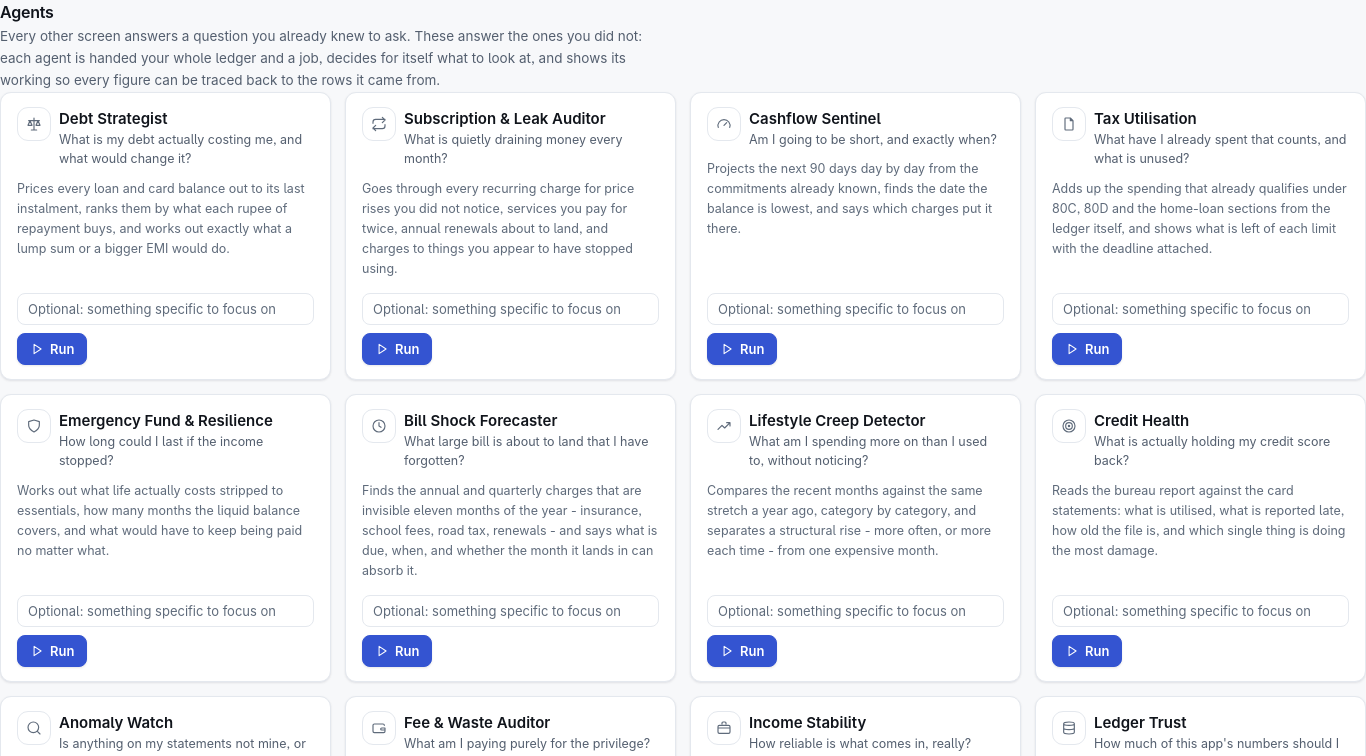
Test: an agent answer › renders every part of what the agent said
Click the button "Run" below "Debt Strategist": (52, 349) [17, 333, 87, 365]
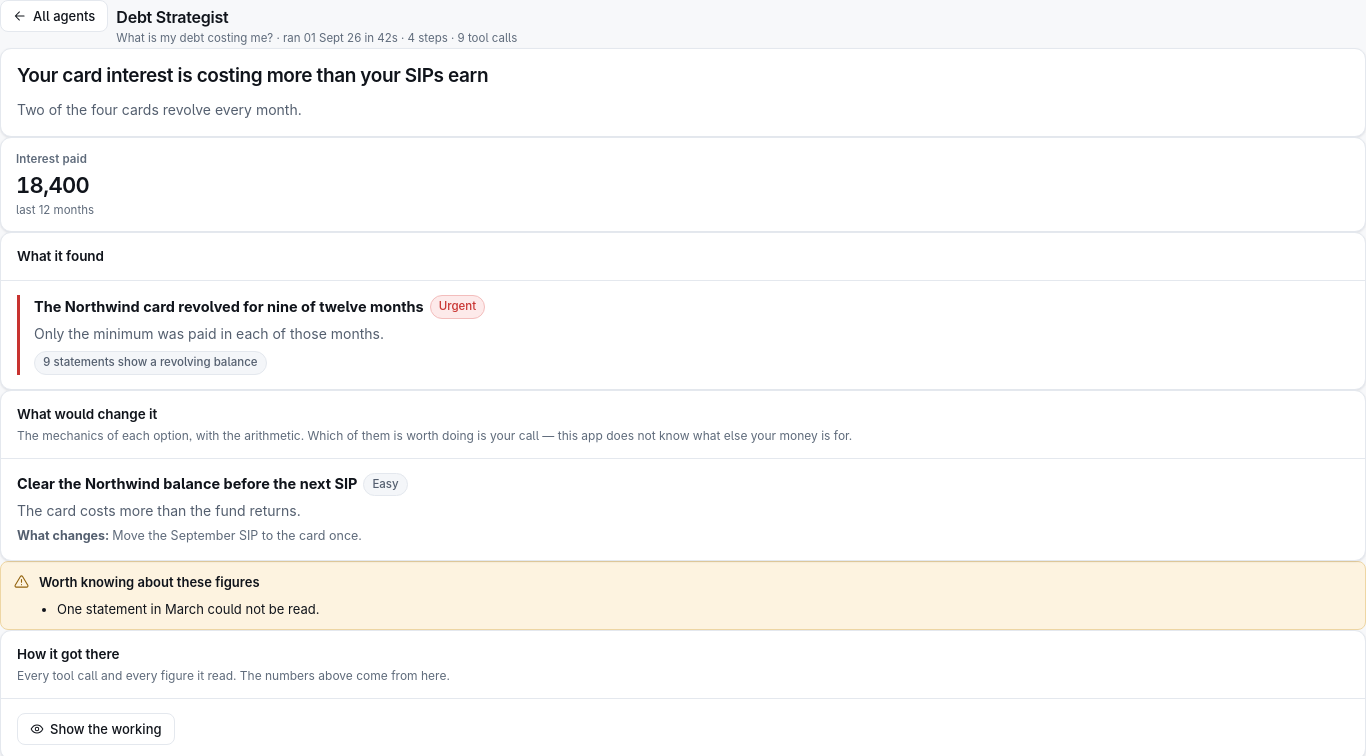
Expected: the text "Your card interest is costing more than your SIPs earn" is shown, [17, 64, 488, 87]
Expected: the text "Two of the four cards revolve every month." is shown, [17, 101, 302, 118]
Expected: the text "The Northwind card revolved for nine of twelve months" is shown, [34, 296, 424, 318]
